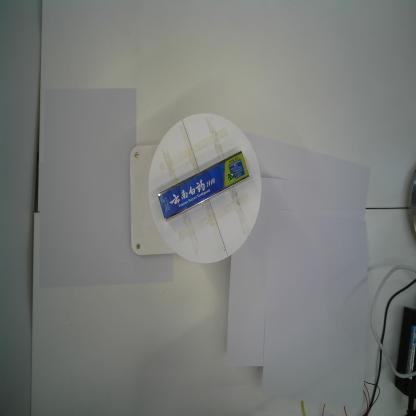Personal Hygiene: (158, 150, 251, 223)
